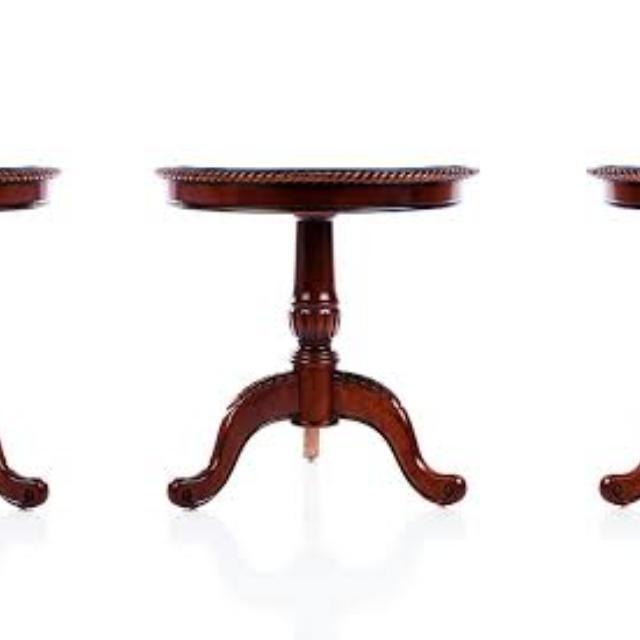obstacle: (128, 107, 494, 591), (0, 107, 85, 591), (572, 107, 640, 591)
